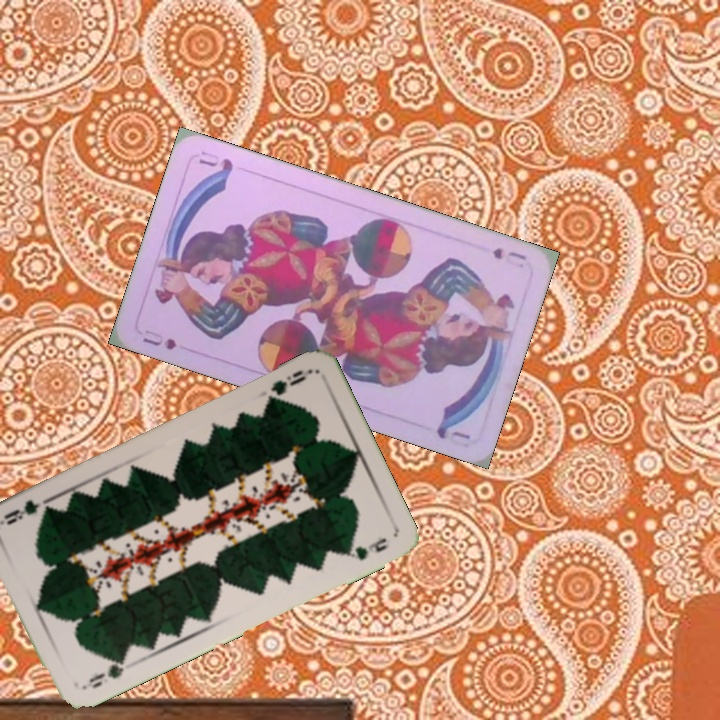G9: (263, 365, 314, 407), (77, 653, 129, 692)
SU: (138, 325, 179, 353), (487, 243, 529, 263)
